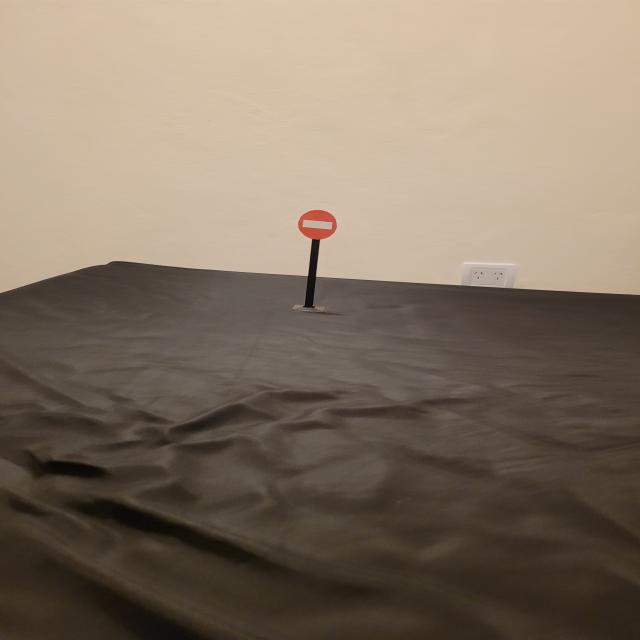no_entry: (296, 209, 338, 240)
